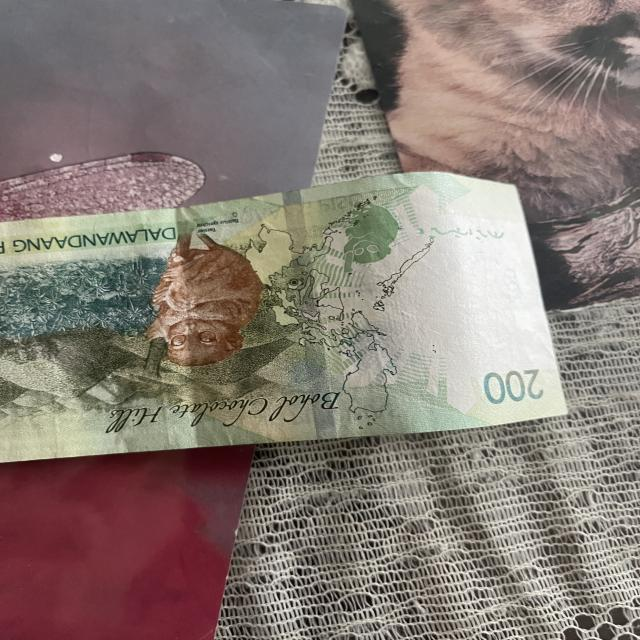200_tarsier: (110, 208, 292, 408)
200_tarsier_watermark: (325, 194, 423, 282)
value_watermark: (491, 260, 530, 313)
